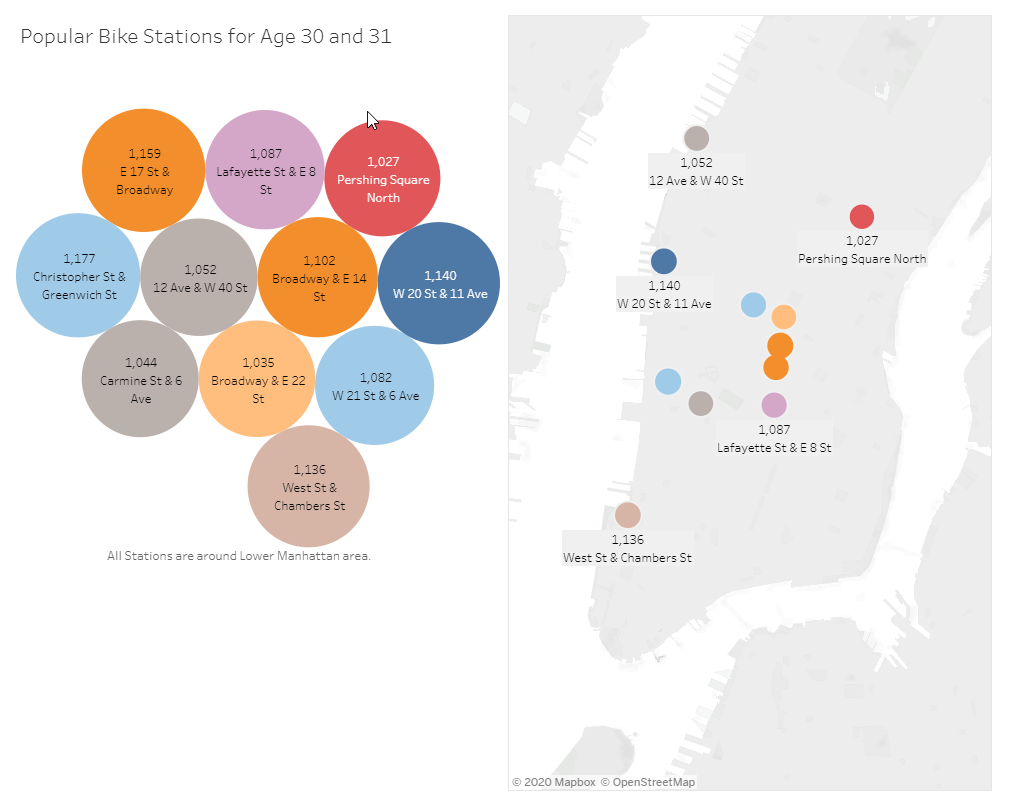

What the dashboard file says about the page in this screenshot:
{"tool":"tableau","page":{"name":"Popular Stations 30","canvas":[1000,800],"ordinal":4},"visuals":[{"type":"worksheet","title":"Populate Bike Station","mark":"Circle","box":[8,8,492,784]},{"type":"worksheet","title":"Populate Bike Station Map","mark":"Circle","rows":["start station latitude"],"cols":["start station longitude"],"box":[500,8,492,784]},{"type":"text","box":[103,537,270,30]}]}

Visuals, with their boxes in screenshot pixels (x1, y1, x2, y2), scaled from the page's 1000x800 canvas onto the 1011x807 screenshot:
"Populate Bike Station" worksheet (Circle marks): x1=8 y1=8 x2=505 y2=799
"Populate Bike Station Map" worksheet (Circle marks): x1=505 y1=8 x2=1003 y2=799
text: x1=104 y1=542 x2=377 y2=572
